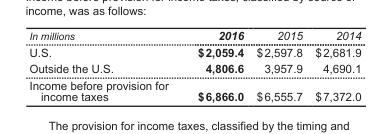table: (28, 28, 360, 102)
table column: (28, 28, 182, 102), (182, 28, 249, 102), (249, 28, 308, 102), (308, 28, 360, 102)
table column header: (28, 28, 360, 43)
table row: (28, 76, 360, 102), (28, 59, 360, 76), (28, 43, 360, 59), (28, 28, 360, 43)
